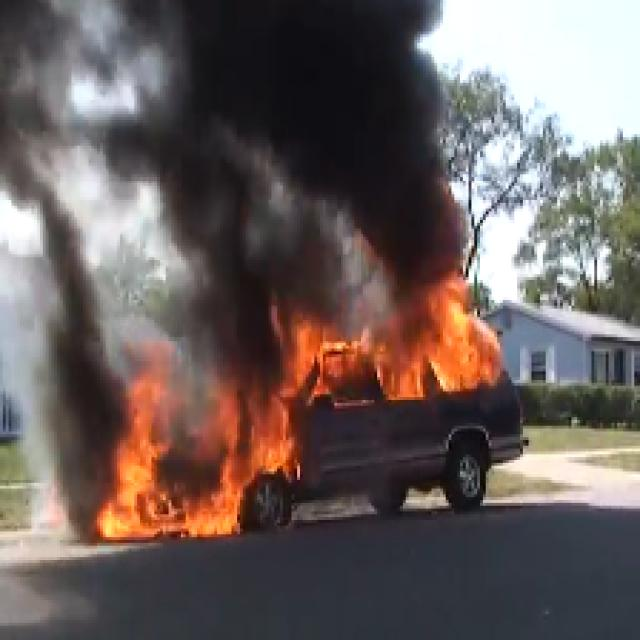fire: (370, 288, 503, 396), (104, 483, 246, 542), (218, 388, 300, 477), (302, 322, 364, 390), (124, 395, 158, 482)
smoke: (0, 8, 447, 182), (167, 188, 360, 316), (24, 196, 110, 468)
